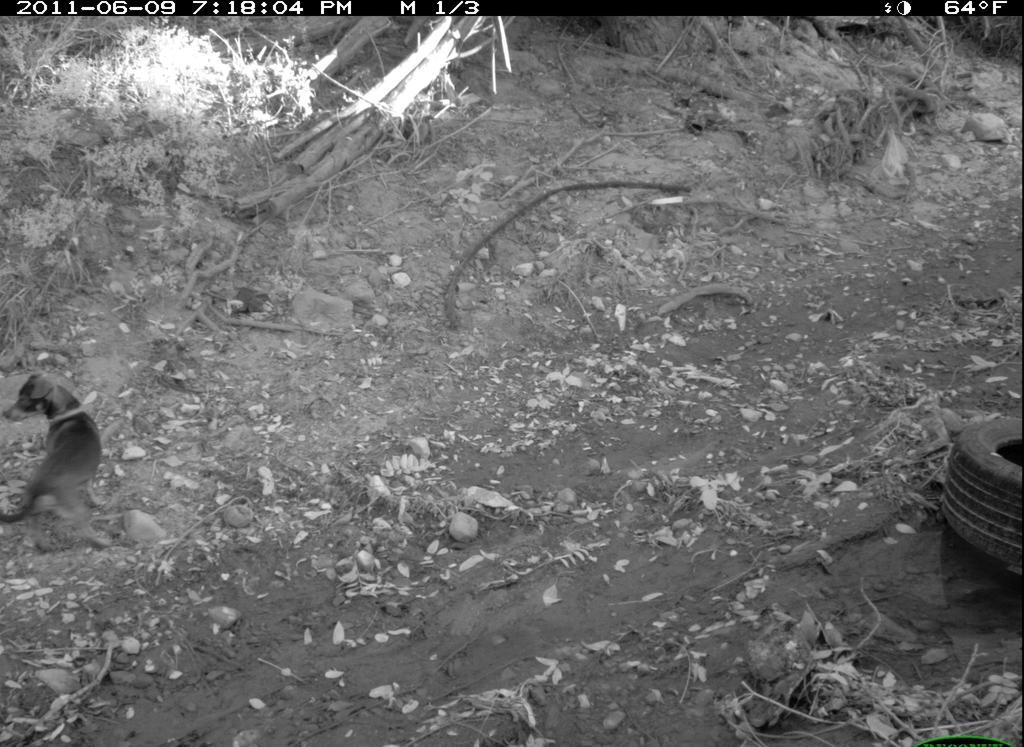dog: (1, 367, 120, 557)
